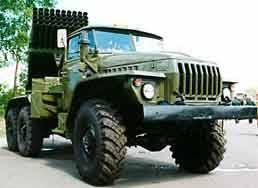MIL_SAM_TEL: (6, 5, 232, 185)
